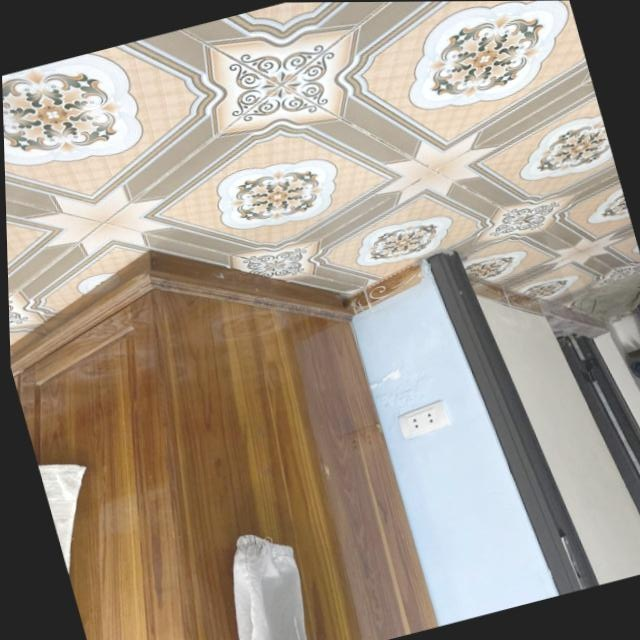outlet: (395, 398, 453, 439)
